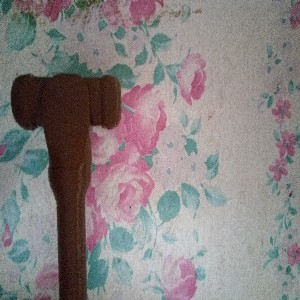palu: (10, 72, 122, 300)
